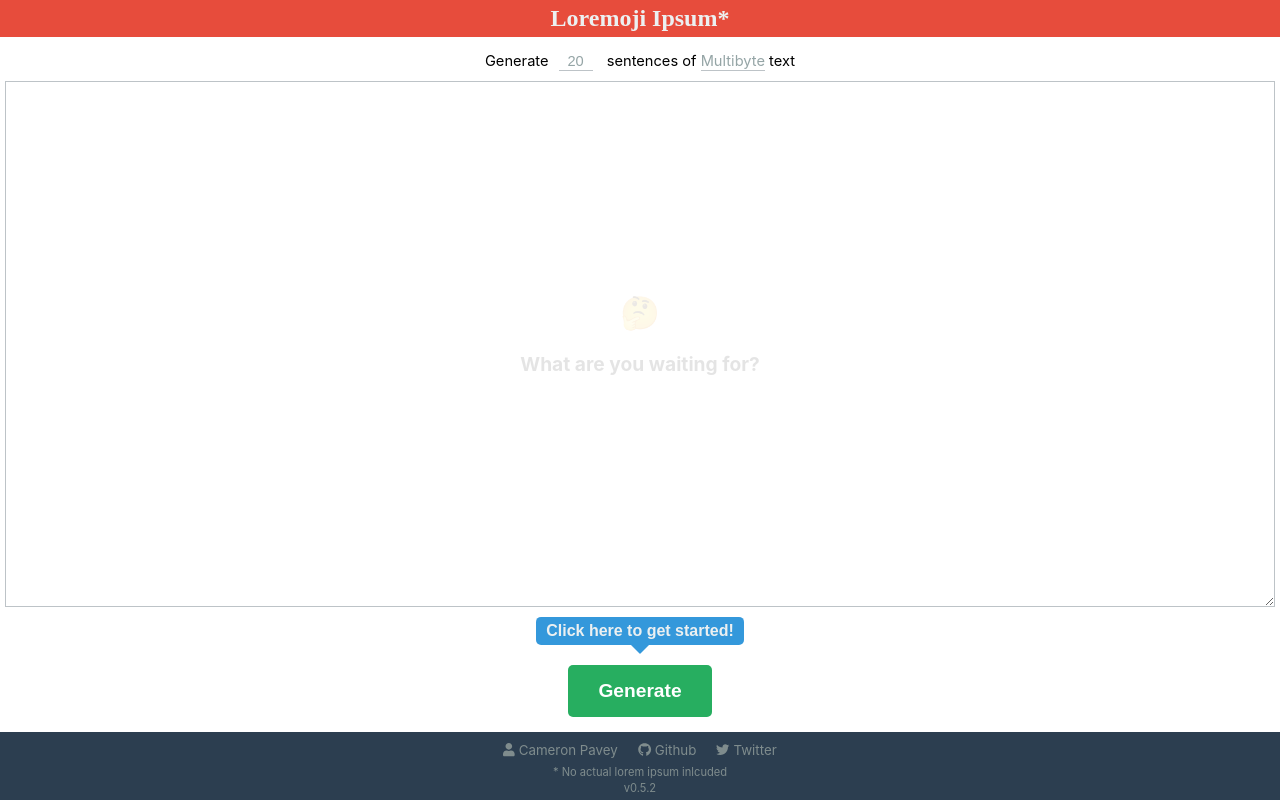
Actions › Generates The specified amount of text
Click the text with test id "typeToggle" at [733, 62], box [701,52,765,71]
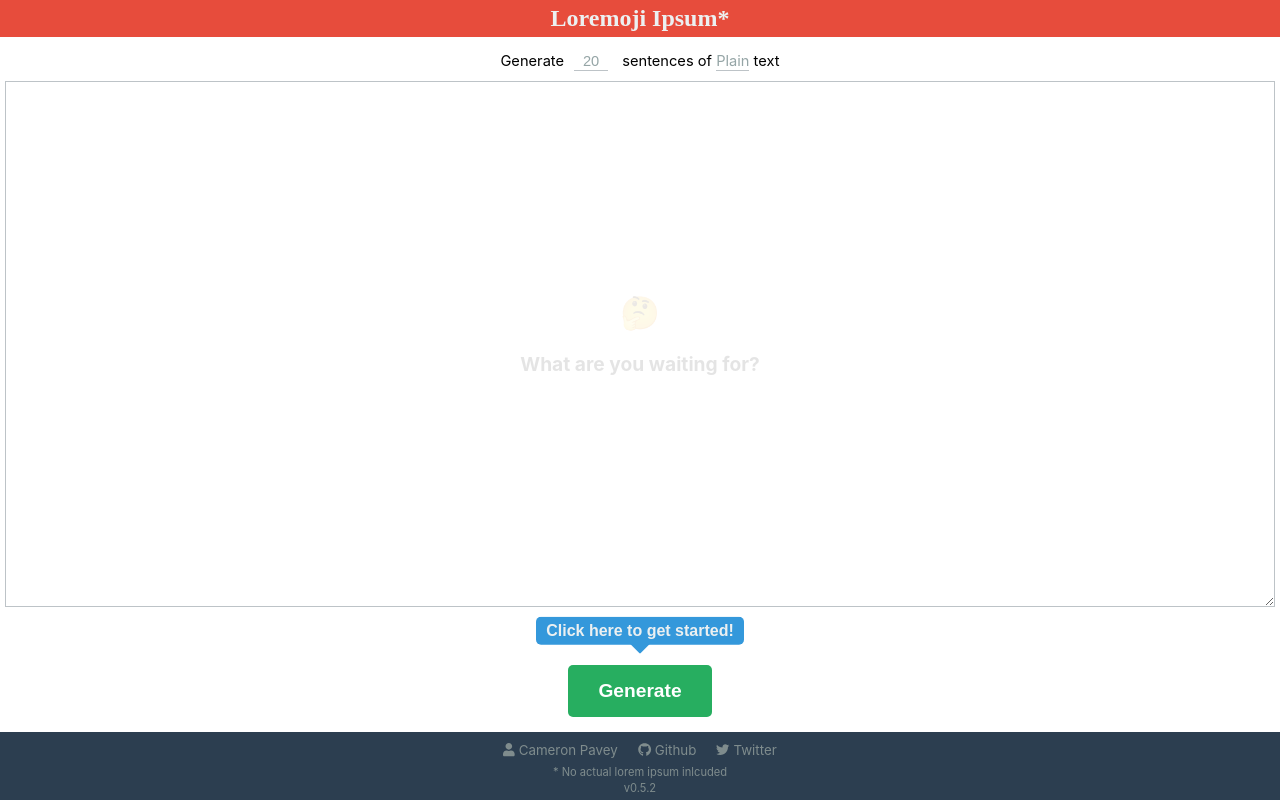
Expected: the text with test id "typeToggle" reads "Plain"
Click the text with test id "typeToggle" at [733, 62], box [716,52,749,71]
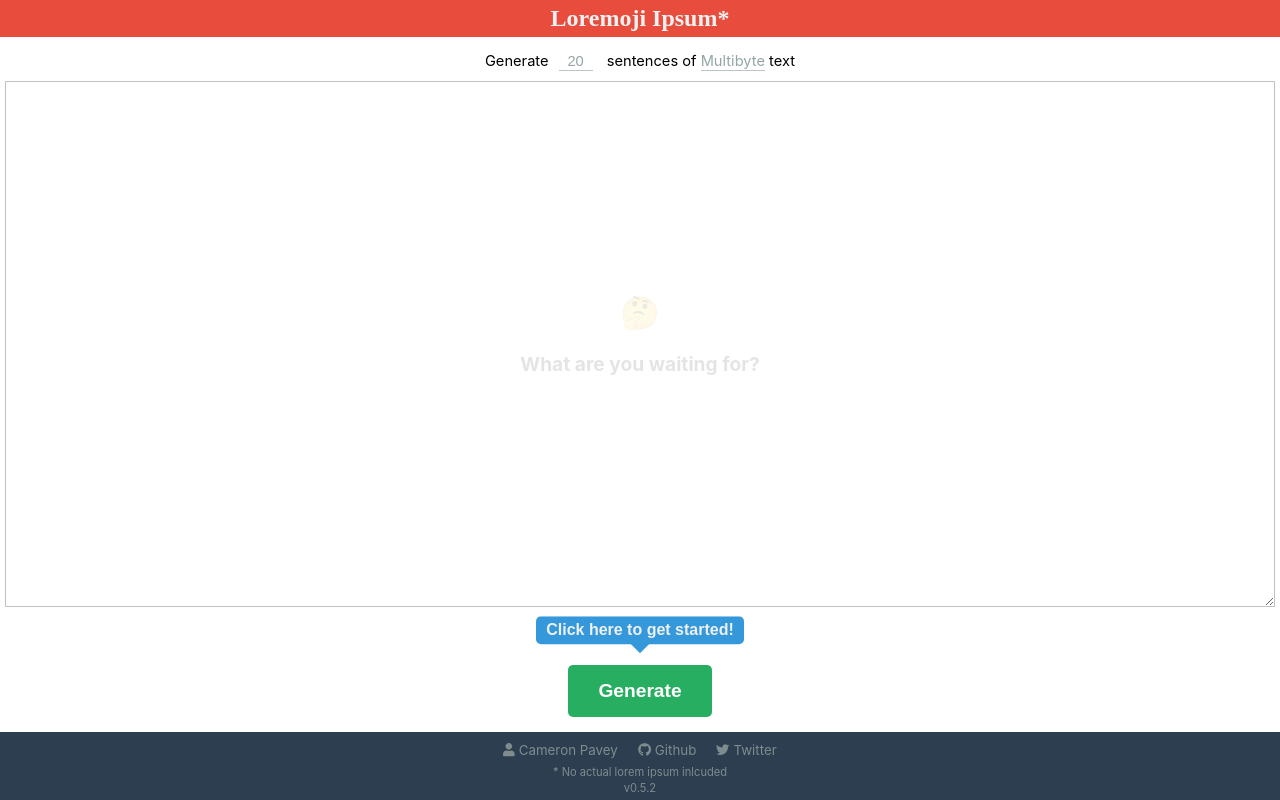
Replace the text in the number field with test id "lineCount" with "10" at [576, 62], box [559,52,593,71]
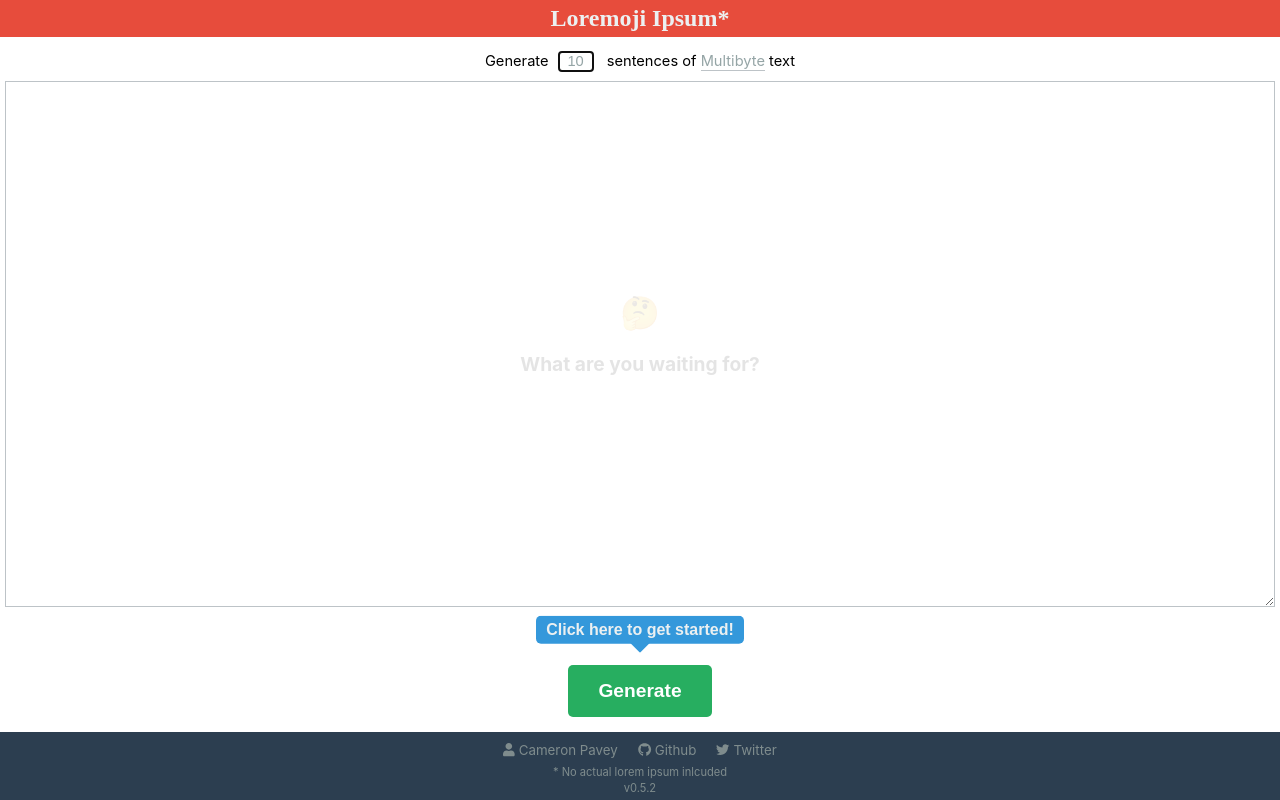
Expected: the text "Click here to get started!" is shown, [536,616,744,644]
Expected: the number field with test id "lineCount" holds "10", [559,52,593,71]
Click the button with test id "generateButton" at [640, 691], box [568,665,711,717]
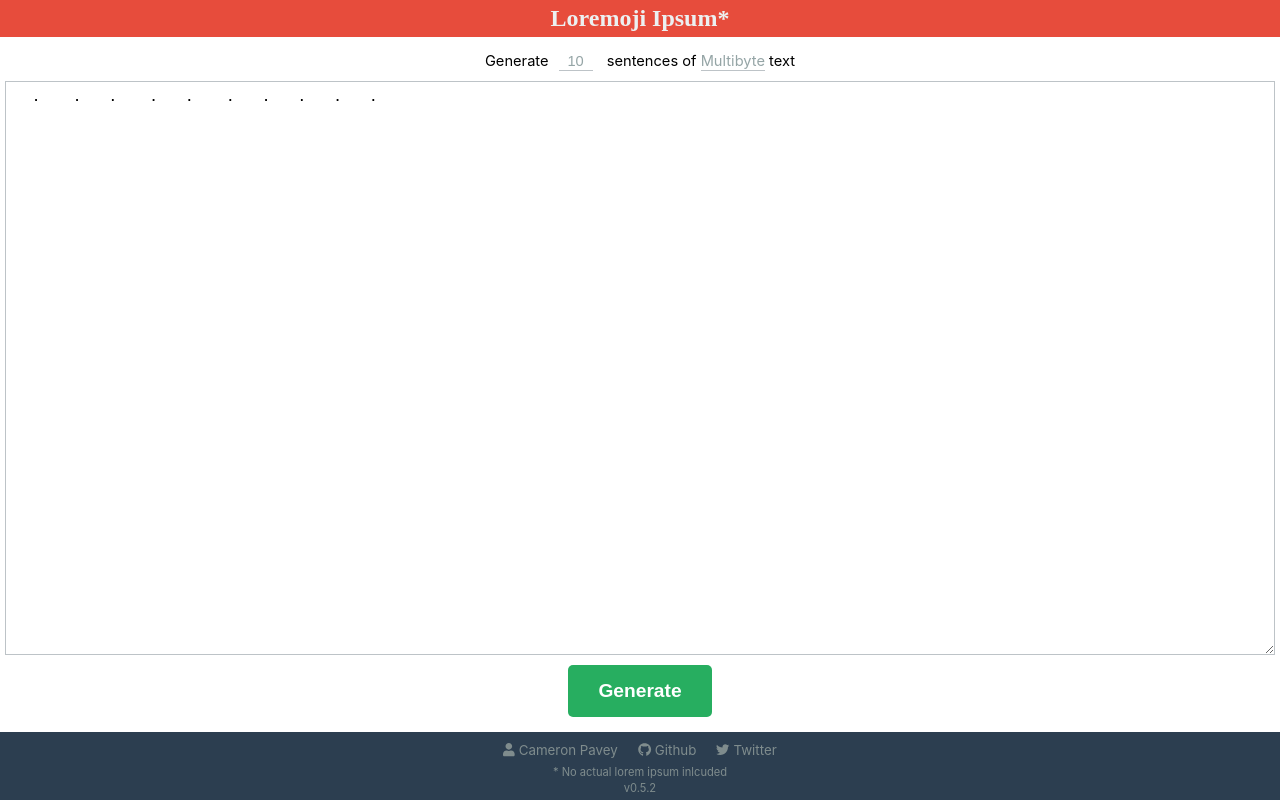
Expected: the element with test id "output" is not empty
Expected: the text with test id "floater" is gone
